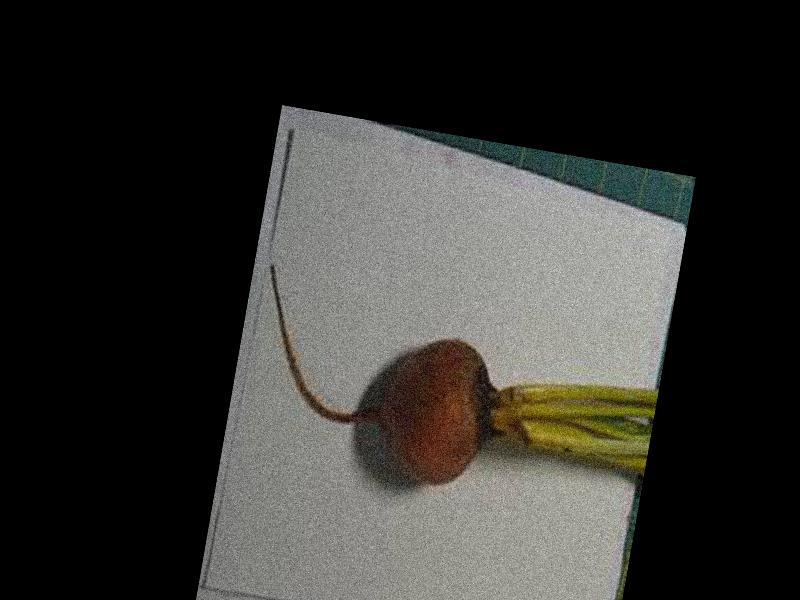Beet: (238, 265, 664, 519)
